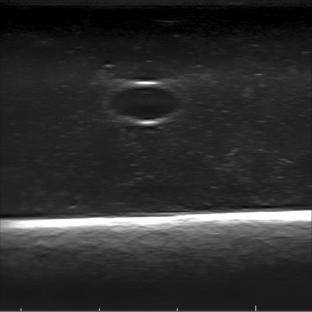vessel: (106, 81, 181, 126)
